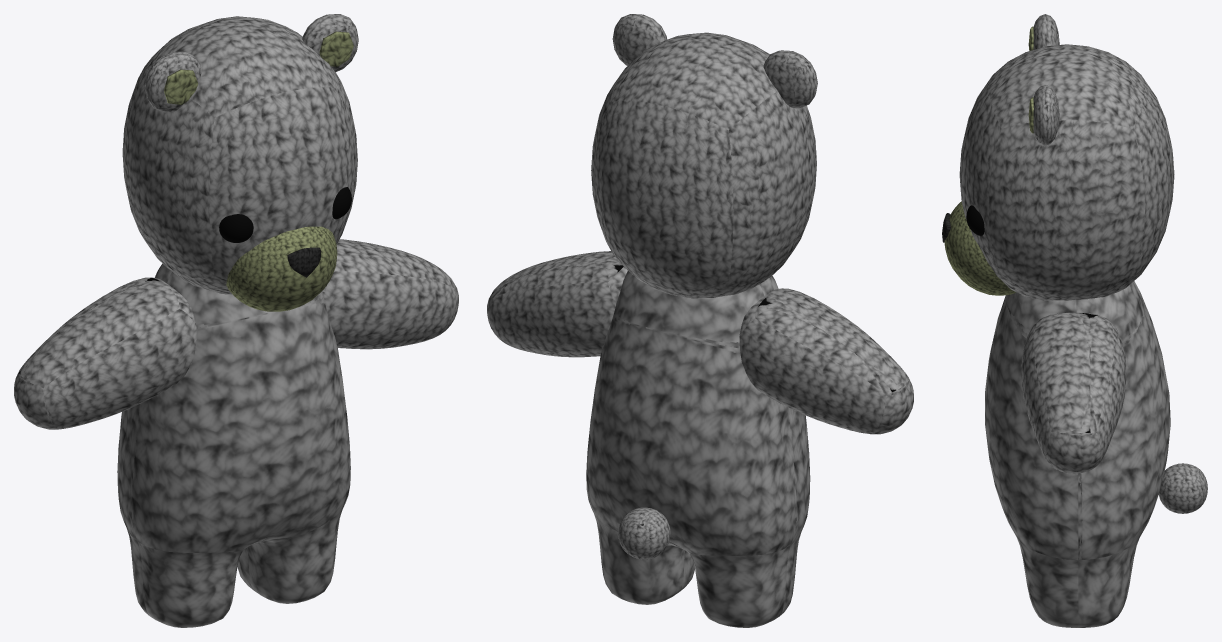
Rendered from OSITOMorado.glb.
3 views of the same model, side by side, from view 1: azimuth 30°, elevation 25°; view 2: azimuth 150°, elevation 25°; view 3: azimuth 270°, elevation 25° (orthographic). The views are drawn at different scales.
Visible parts, largest first — view 1: body, head, arms, snoot, ears, in ears, eyes, nose; view 2: body, head, arms, ears, tail; view 3: head, body, arms, snoot, ears, tail, eyes.
Boxes of the visible parts, x1,y1,x2,y2 form: body: (117,263,350,627); head: (122,16,357,294); arms: (14,239,458,429); snoot: (226,226,337,311); ears: (145,14,358,112); in ears: (164,31,353,104); eyes: (219,187,351,242); nose: (287,247,321,277); body: (586,271,810,627); head: (591,32,816,298); arms: (487,251,913,434); ears: (612,14,817,108); tail: (618,507,670,559); head: (959,44,1174,300); body: (985,281,1170,627); arms: (1021,312,1126,473); snoot: (944,201,1015,295); ears: (1033,14,1059,145); tail: (1158,463,1207,513); eyes: (966,205,984,235).
Bounding box in the file's own units: 1.37 × 1.75 × 0.7789.
Materials: 7 (6 with a texture image).
